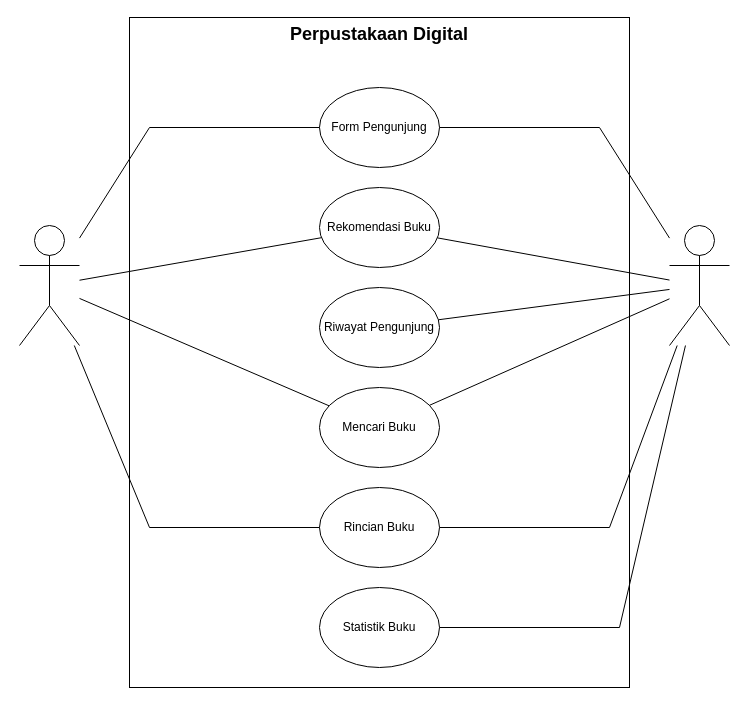
The diagram is 749 pixels wide and 705 high, and some of its shapes have lost their labels. The box of each missing label's shape, as (x1, y1, x2, y2) in pixels:
Pengunjung: (18, 224, 80, 346)
Pustakawan: (668, 224, 730, 346)
